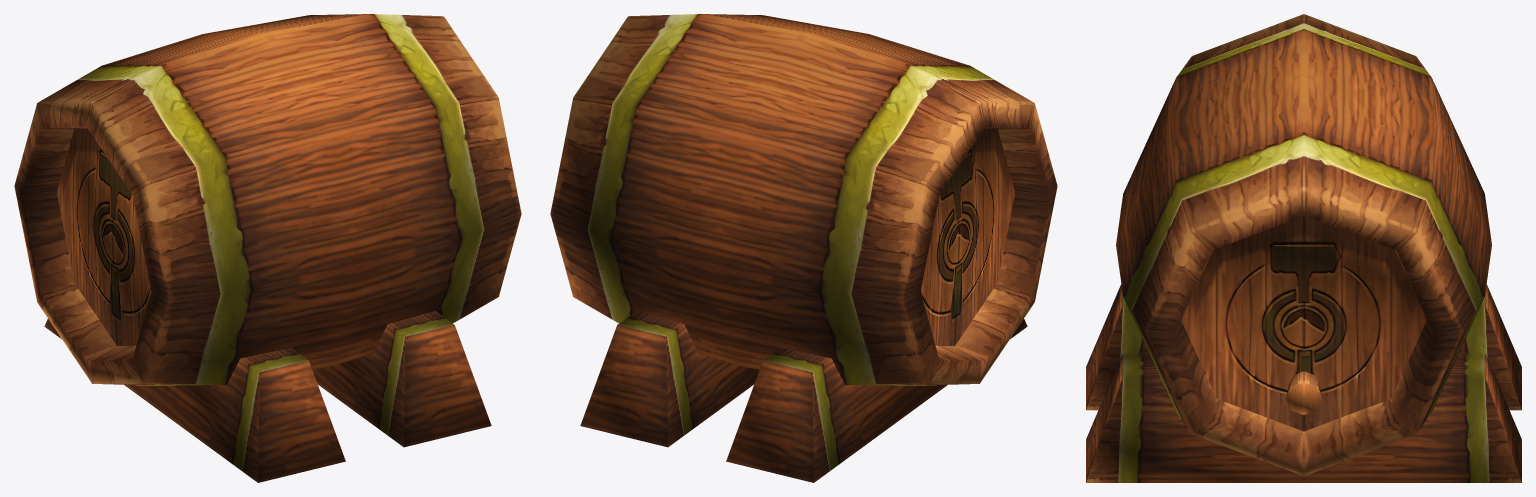
Rendered from alekegfoot.obj.
The picture shows the model from 3 angles, left to right: view 1: azimuth 30°, elevation 25°; view 2: azimuth 150°, elevation 25°; view 3: azimuth 270°, elevation 25°; orthographic projection.
Visible parts, largest first — view 1: alekegfoot; view 2: alekegfoot; view 3: alekegfoot.
Boxes of the visible parts, bbox=[...] form: alekegfoot: bbox=[14, 14, 521, 482]; alekegfoot: bbox=[550, 14, 1057, 482]; alekegfoot: bbox=[1086, 14, 1521, 482].
Size of the model in its own units: 2.01 by 1.81 by 2.05.
Materials: 1 (1 with a texture image).
